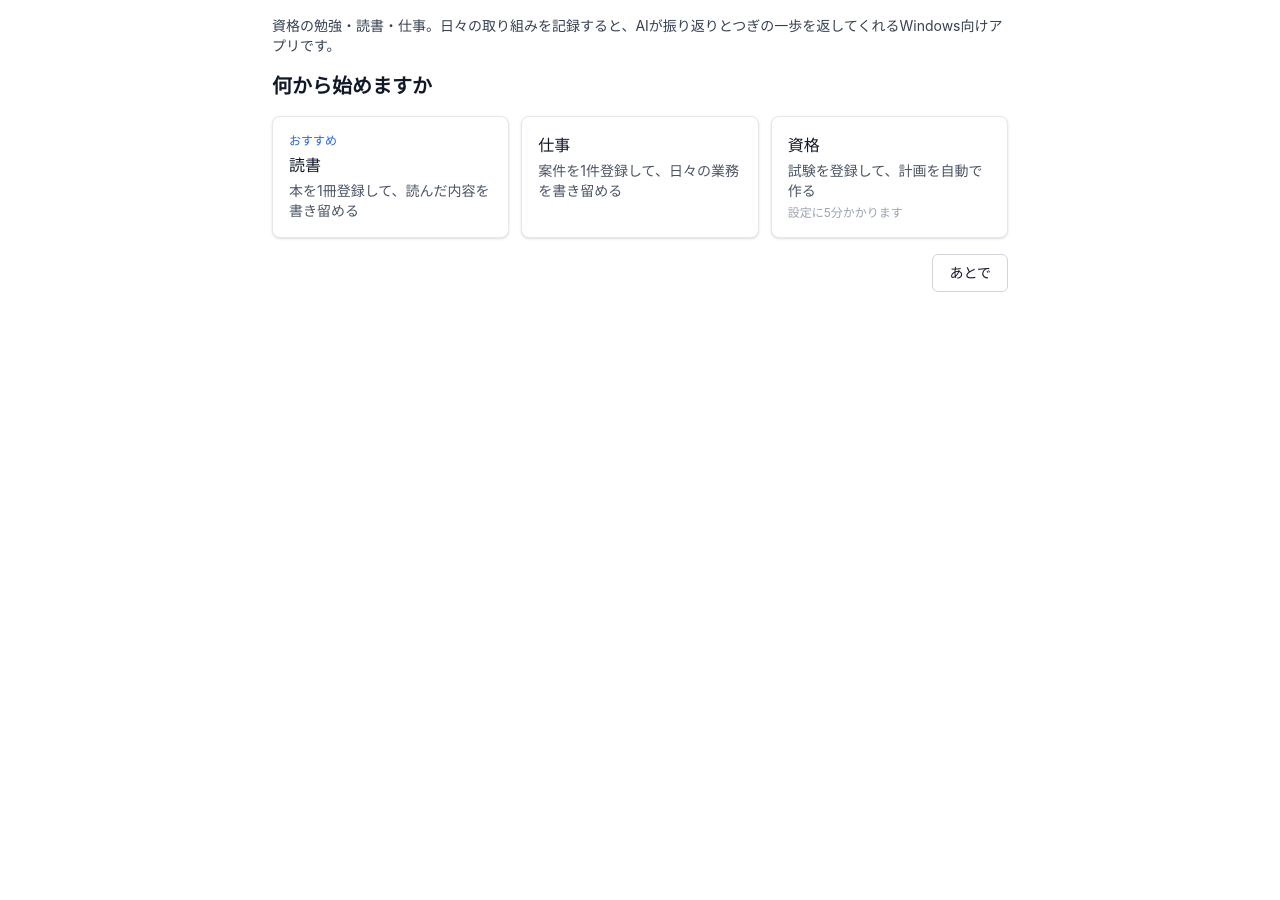
Scenario: WelcomePage からの遷移 › opens the work quick-create form
This screenshot has width=1280, height=900.
Click the text "仕事" at (554, 145), box [538,135,570,155]
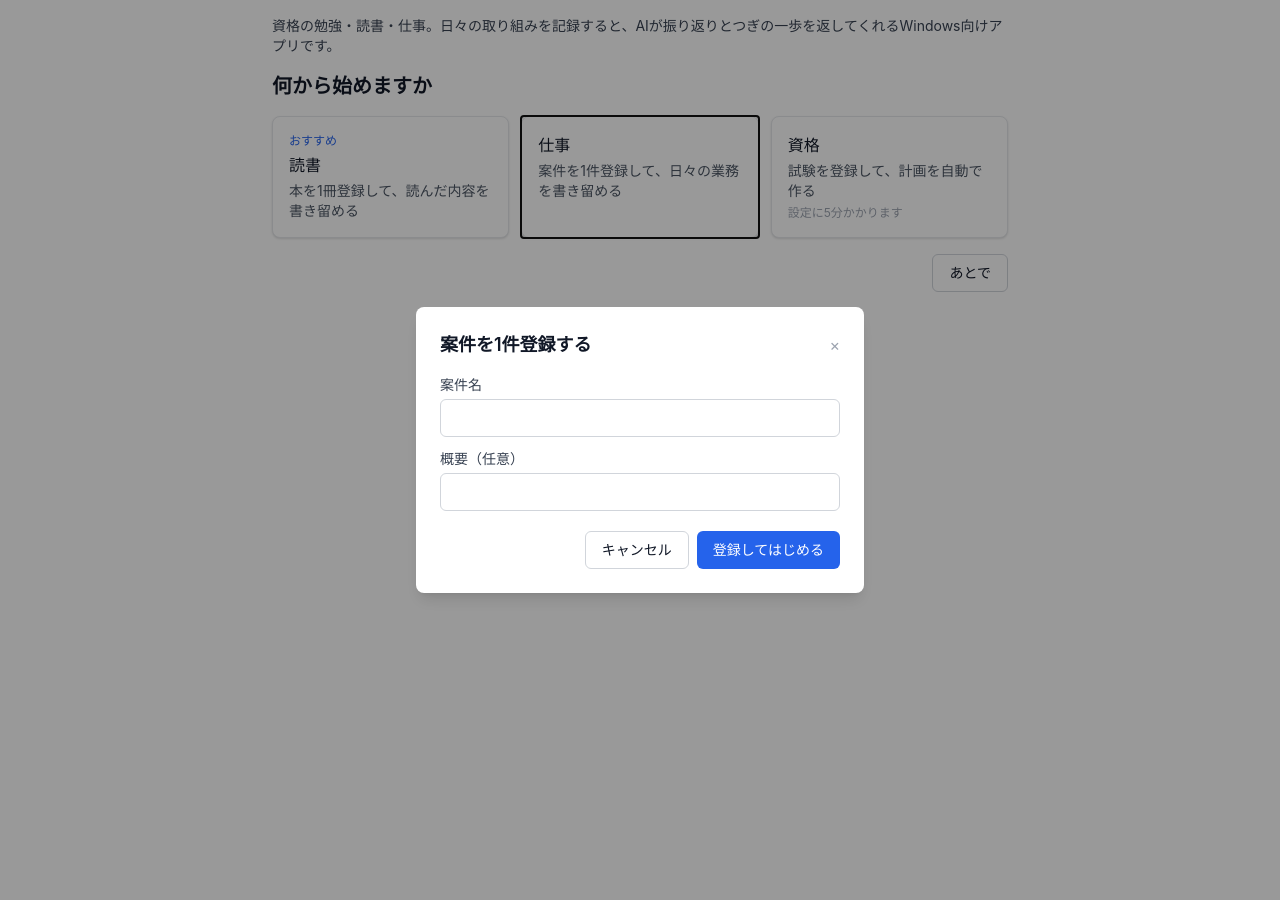
Check: the field labelled "案件名" is shown, box [440,399,840,437]
